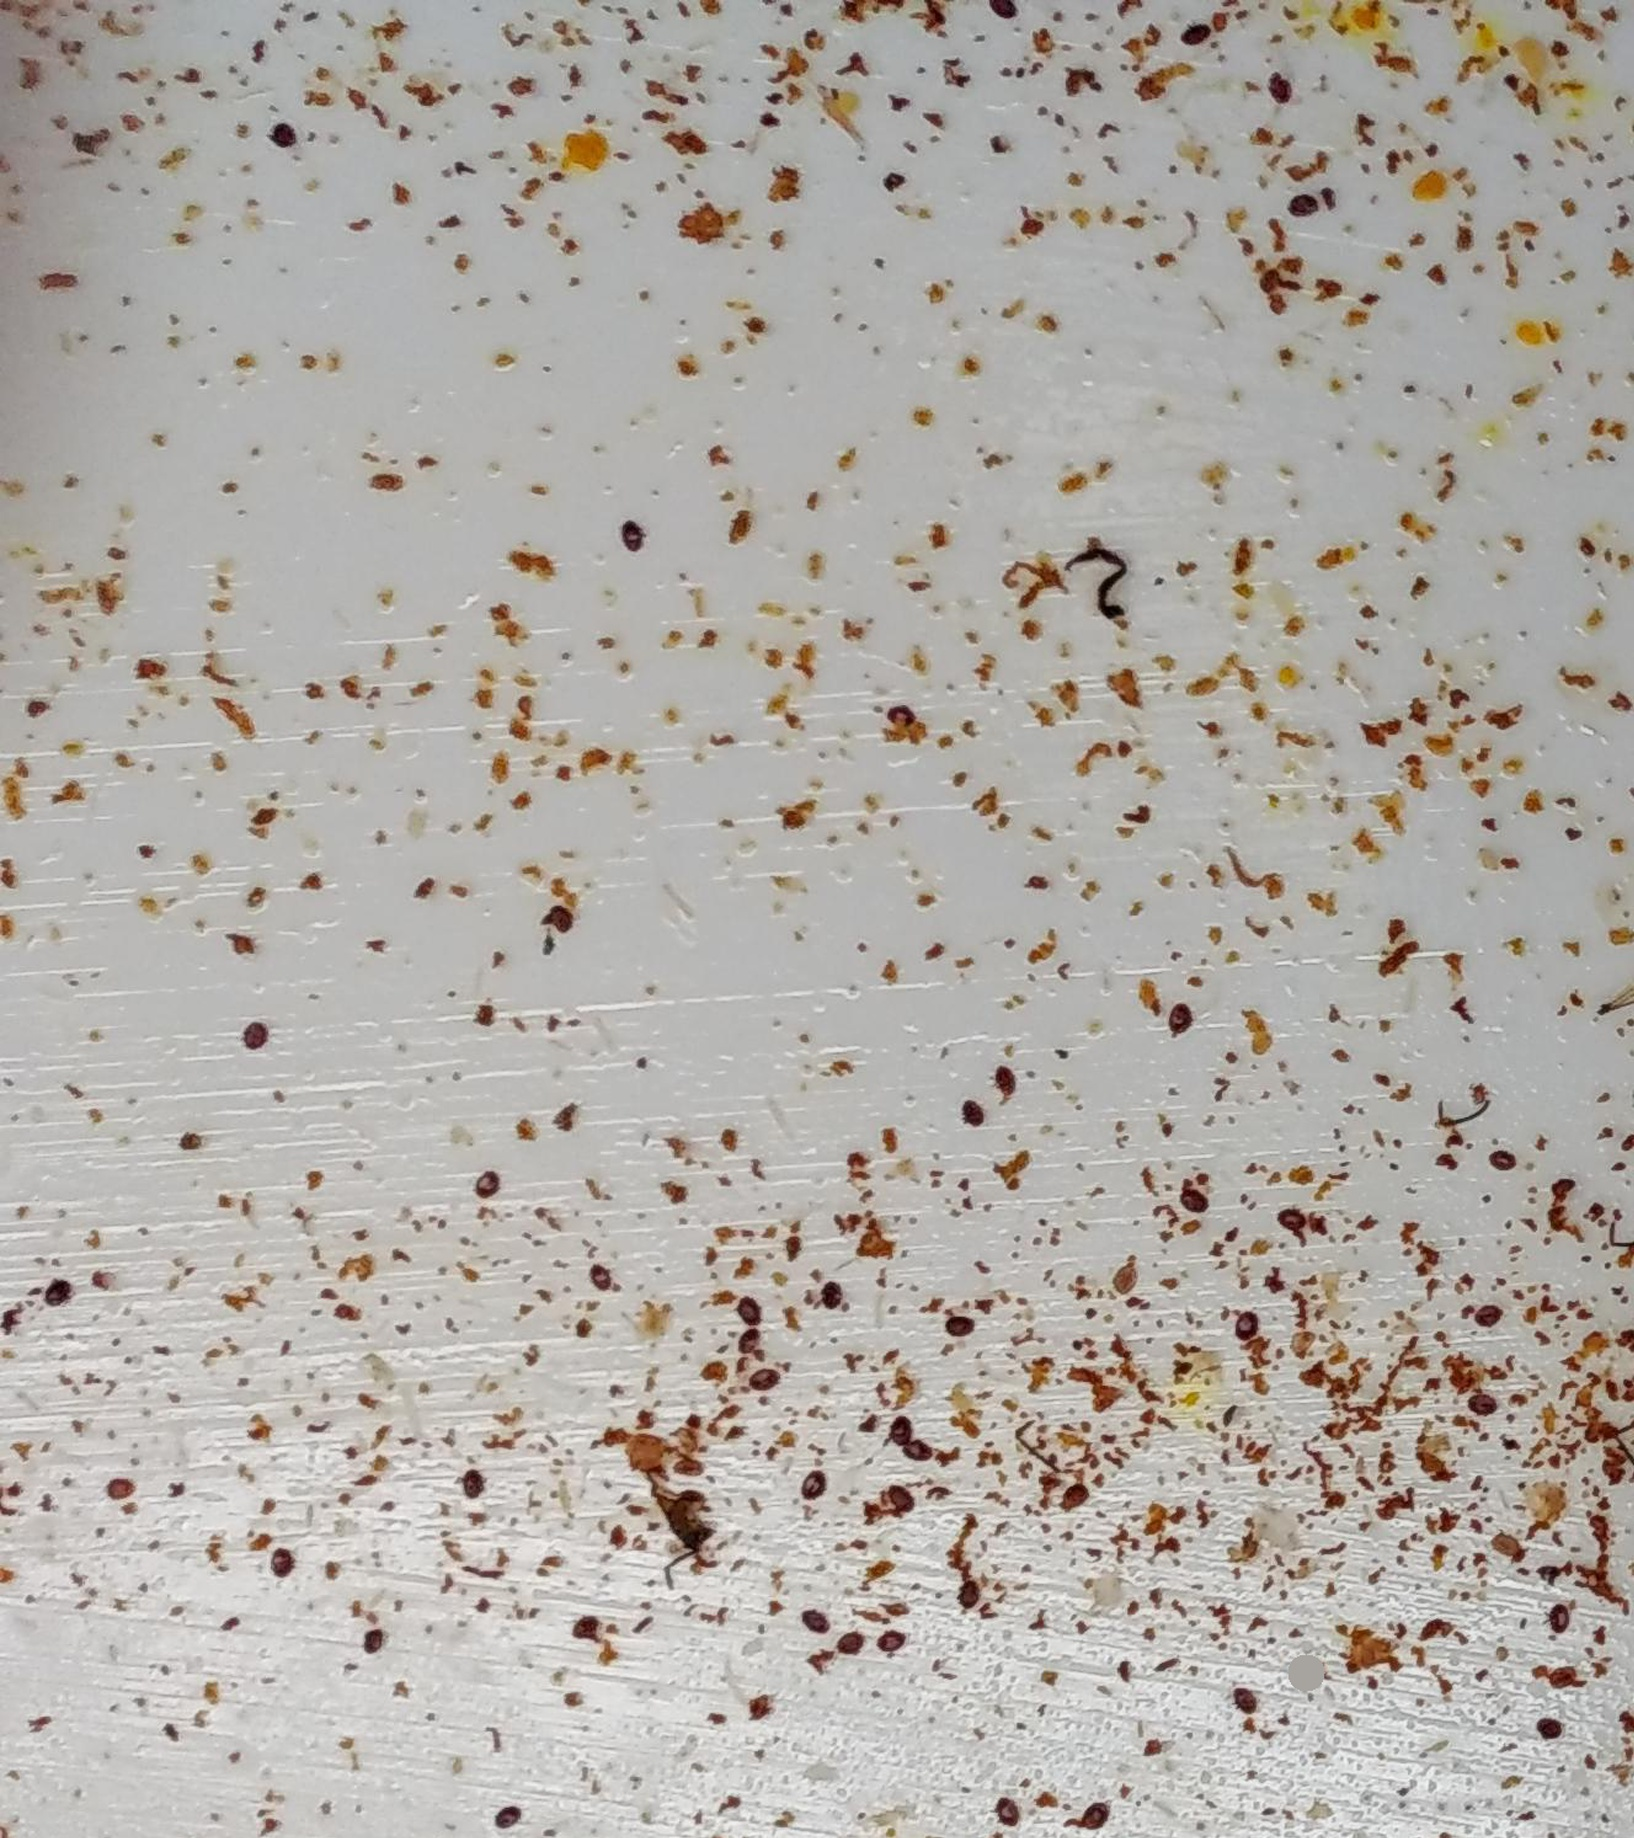Varroa: (669, 1444, 710, 1486), (897, 1431, 938, 1474), (1486, 1524, 1527, 1567), (1543, 1657, 1584, 1698), (1483, 1152, 1520, 1193), (610, 513, 647, 554), (743, 1355, 781, 1393), (890, 1421, 927, 1459), (836, 1627, 874, 1664), (101, 1472, 140, 1508), (43, 1276, 79, 1316), (577, 1616, 614, 1655), (1533, 1710, 1569, 1748), (1054, 1475, 1091, 1511), (885, 702, 921, 740), (1470, 1292, 1506, 1328), (454, 1469, 491, 1505), (1177, 1180, 1213, 1216), (263, 1552, 298, 1590), (464, 1160, 498, 1196), (1230, 1313, 1267, 1347), (1235, 1683, 1270, 1720), (1285, 188, 1322, 222), (240, 1022, 274, 1059), (882, 1488, 918, 1522), (740, 1316, 774, 1352), (815, 1275, 849, 1313), (796, 1470, 830, 1507), (587, 1257, 620, 1294), (951, 1095, 983, 1133), (1183, 1202, 1214, 1240), (356, 1630, 390, 1664), (487, 1800, 520, 1835), (1539, 1600, 1572, 1634), (990, 1797, 1024, 1832), (954, 1576, 987, 1611), (990, 1062, 1024, 1096), (1102, 1264, 1136, 1298), (547, 898, 579, 934), (945, 1314, 979, 1346), (885, 1619, 920, 1650), (1262, 71, 1295, 103), (267, 118, 298, 151), (1188, 21, 1221, 52), (1465, 1390, 1498, 1421), (871, 1631, 904, 1663), (1284, 1212, 1319, 1242), (793, 1609, 823, 1644), (1166, 1007, 1196, 1038), (737, 1295, 767, 1327), (875, 1417, 904, 1445)
